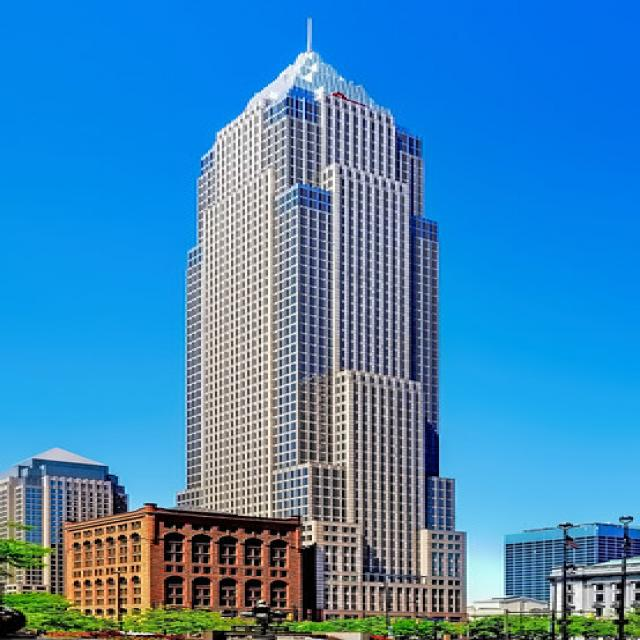Normal_building: (168, 46, 472, 631)
